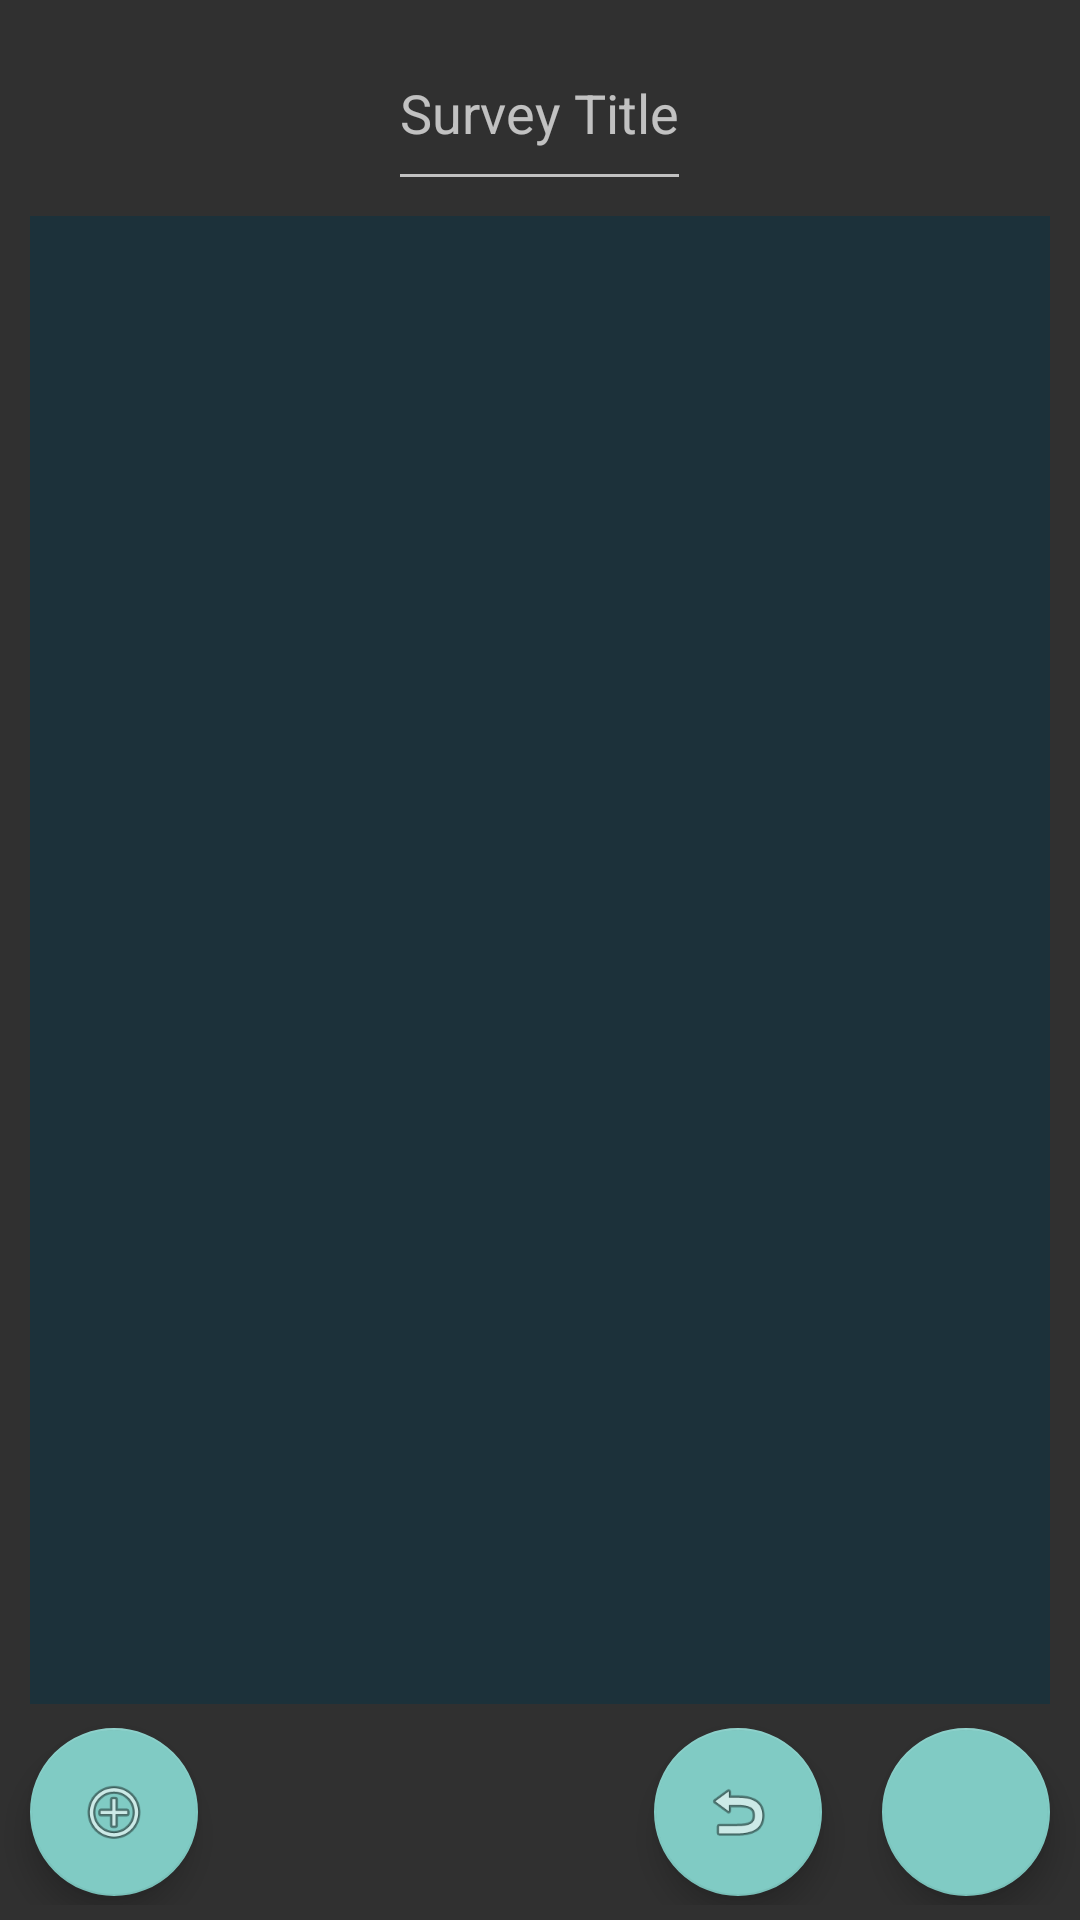

Locate icon controls on the screen. Image size 1080px×1920px, boxes as {"left": x1, "top": y1, "right": x2, "bottom": y2}.
add: {"left": 30, "top": 1728, "right": 198, "bottom": 1896}
revert: {"left": 654, "top": 1728, "right": 822, "bottom": 1896}
